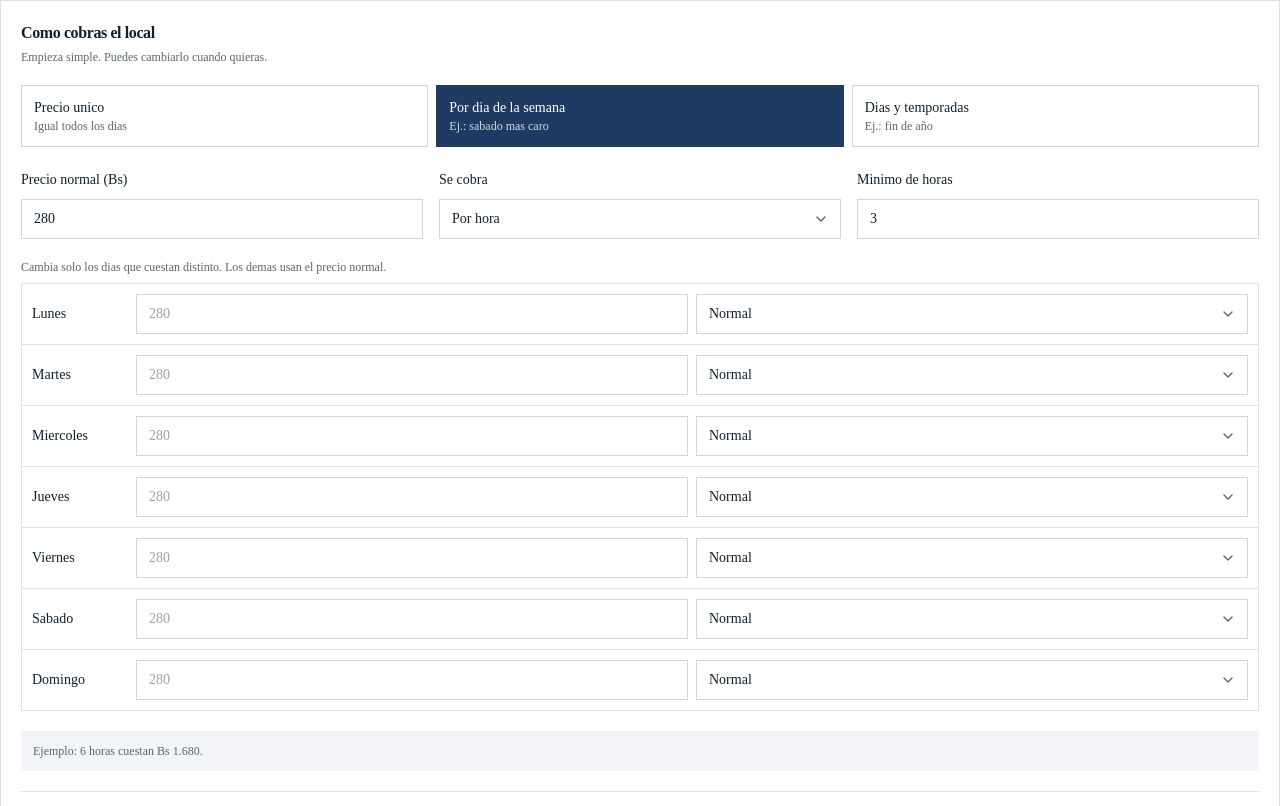
Scenario: VenuePricingSection › minimo de horas › no cuenta un dia por hora si el modo actual no usa precios por dia
Select "Por dia" in the dropdown labelled "Se cobra": (640, 219) left=439, top=199, right=841, bottom=239
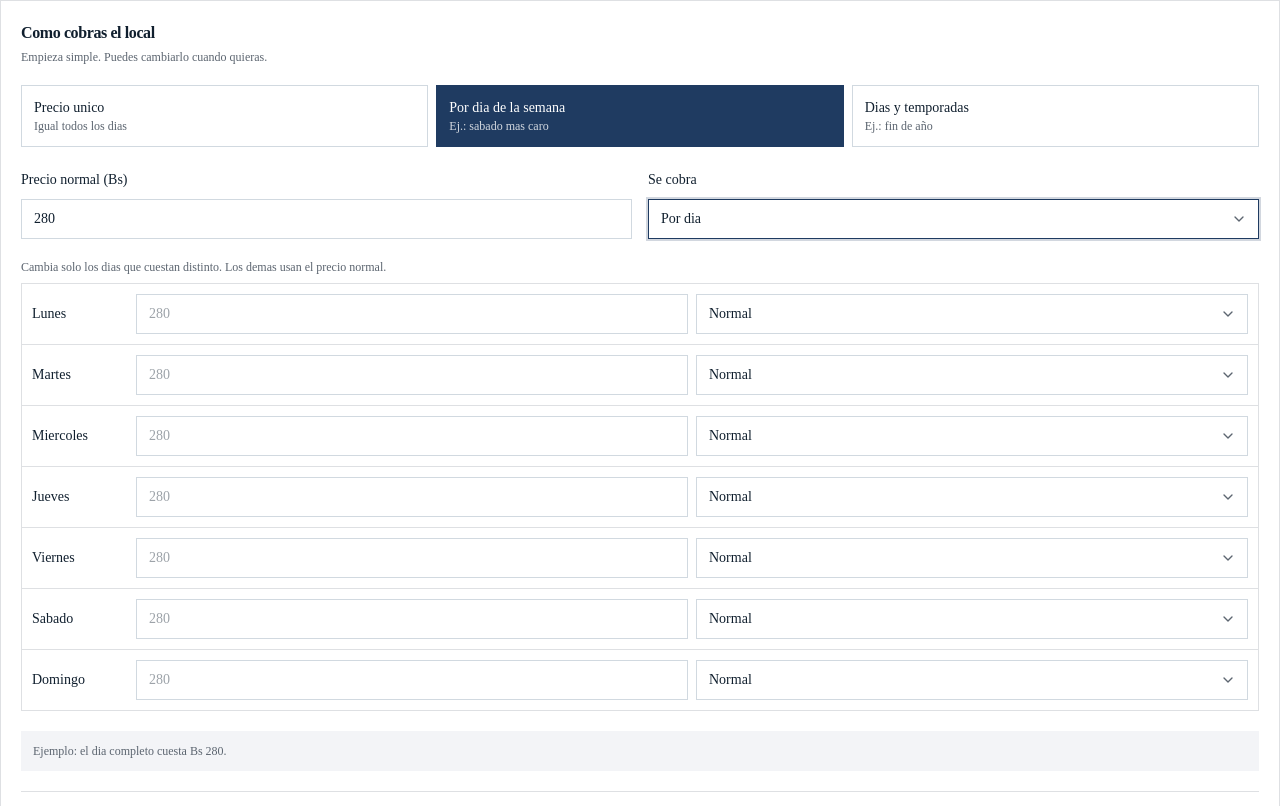
In the number field named "Precio del Sabado": (412, 619) left=136, top=599, right=688, bottom=639, type "350"
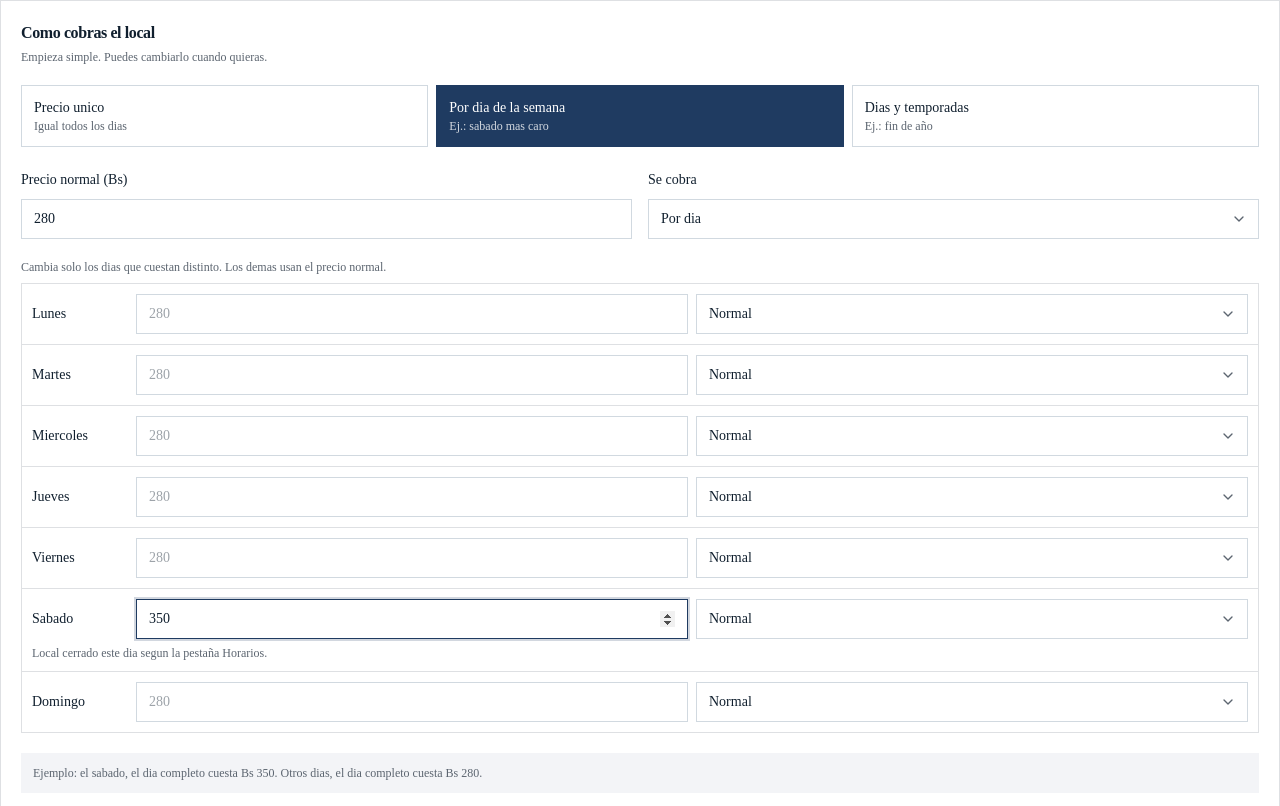
Select "Por hora" in the dropdown named "Como se cobra el Sabado": (972, 619) left=696, top=599, right=1248, bottom=639
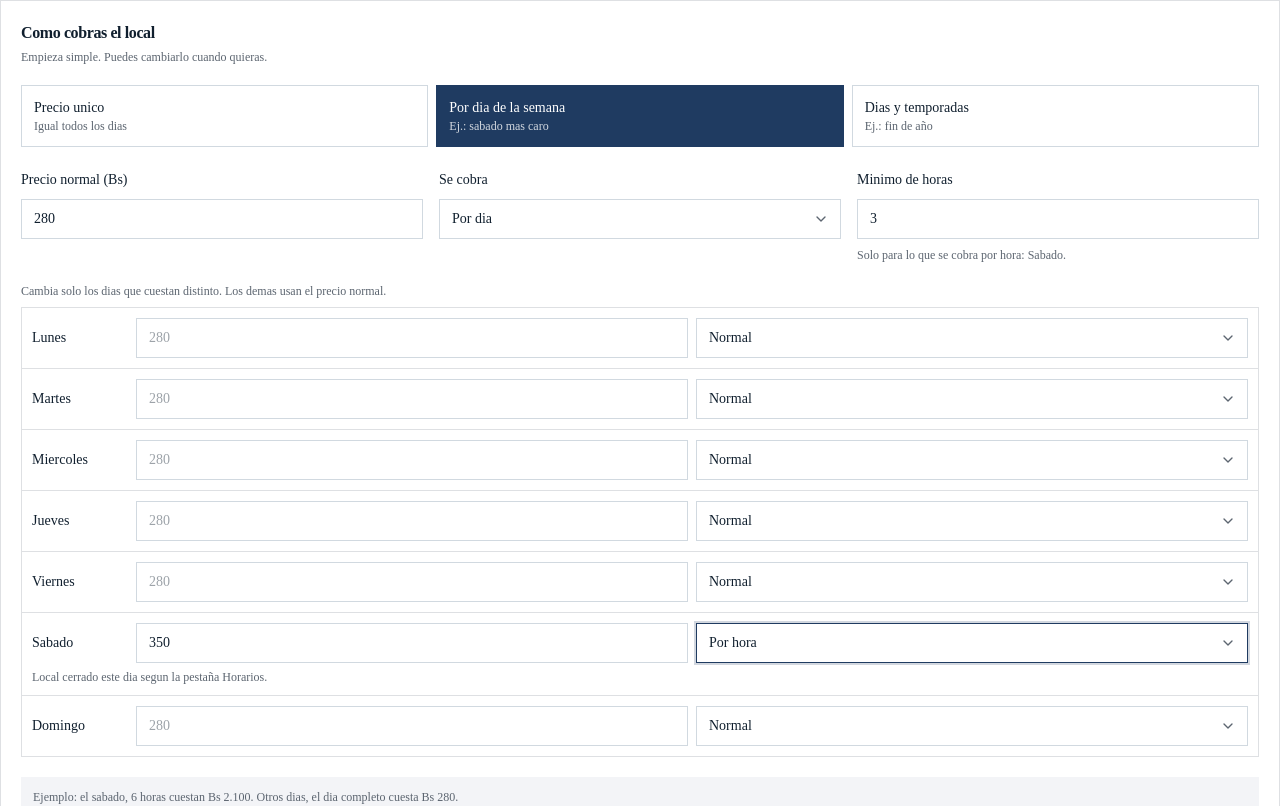
Click the radio button labelled "Precio unico Igual todos los dias": (69, 108) left=21, top=85, right=428, bottom=147
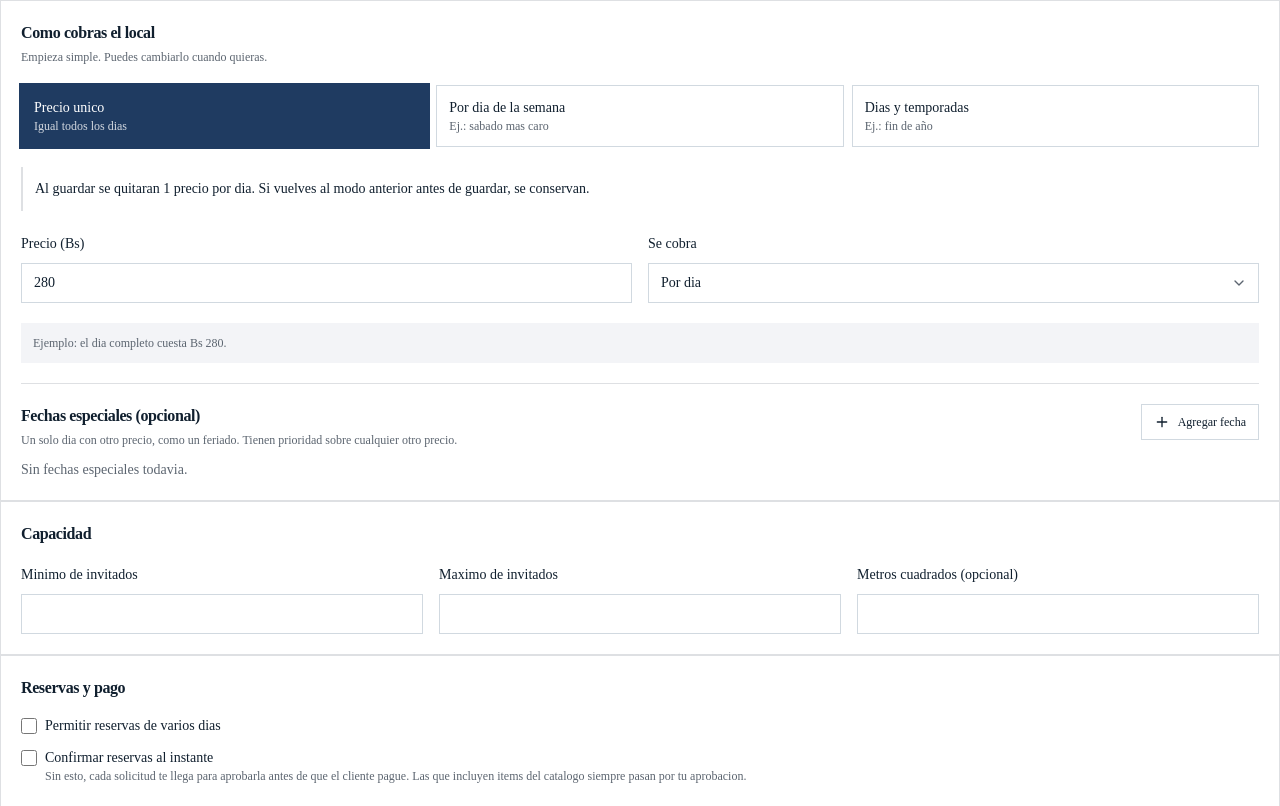
Expected: the label labelled "Minimo de horas" is gone
